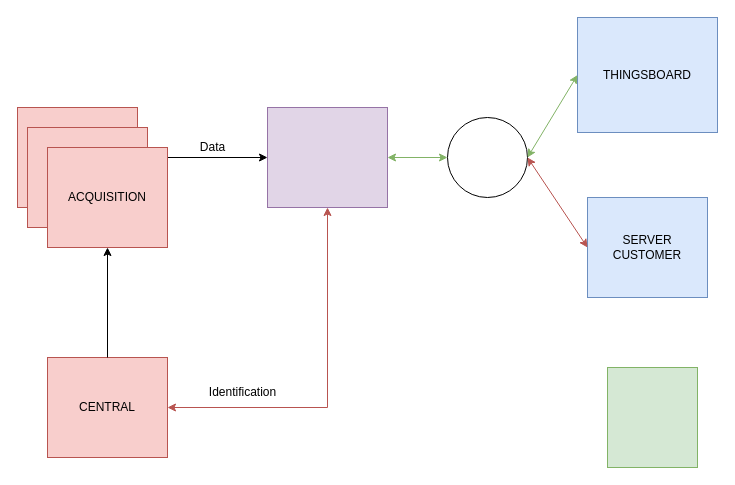
This 735x485 diagram has some shape labels left out. Here are the shapes that lost their labels. From the top down, the box of each, then its label:
(266, 106, 388, 208): BRIDGE
(446, 116, 528, 198): Internet
(606, 366, 698, 468): CLIENT
